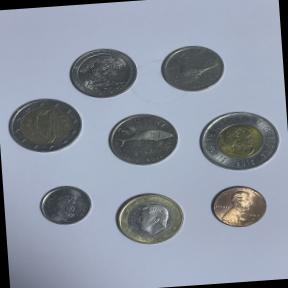1 Euro-B: (108, 186, 191, 251)
2 Euro-B: (2, 94, 87, 162)
Canada-10cent-B: (34, 179, 94, 229)
Canada-2Dollar-B: (192, 102, 287, 181)
Croatia-2Kune-B: (100, 104, 186, 174)
US-1cent-B: (204, 178, 272, 231)
US-25cent-B: (64, 44, 140, 102)
